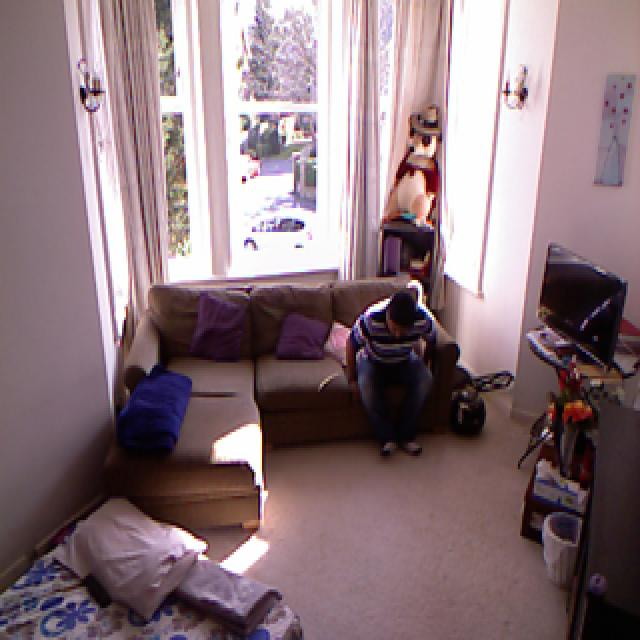sitting: (337, 292, 447, 467)
